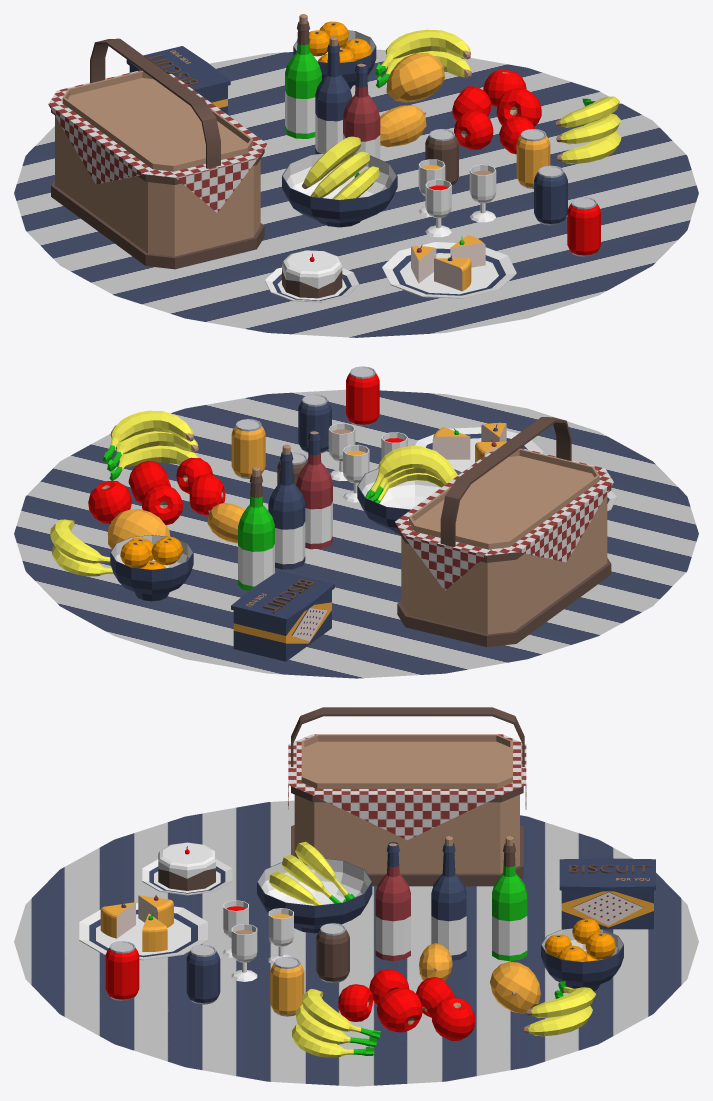
File: picnic.fbx
3 views of the same model, one above another, from view 1: azimuth 30°, elevation 25°; view 2: azimuth 150°, elevation 25°; view 3: azimuth 270°, elevation 25° (orthographic).
Parts seen in each view (by area): view 1: SM_zhuobu, SM_basket, SM_wan01, SM_dangao, SM_panzi_01, SM_fruit_banana01.001, bottle3, SM_fruit_banana02, SM_fruit_banana01, bottle2, SM_biscuit_box, SM_fruit_mango.001 (+18 smaller); view 2: SM_zhuobu, SM_basket, SM_biscuit_box, SM_fruit_banana01.001, bottle3, bottle2, bottle1, SM_fruit_banana02, SM_wan02, SM_wan01, SM_fruit_banana01, SM_yilaguan.004 (+17 smaller); view 3: SM_zhuobu, SM_basket, SM_biscuit_box, SM_wan01, SM_dangao, SM_fruit_banana01.001, bottle3, bottle1, SM_panzi_01, bottle2, SM_fruit_banana02, SM_wan02 (+19 smaller).
Boxes of the visible parts, <box> form: SM_zhuobu: <box>14,49,698,337</box>; SM_basket: <box>48,38,266,269</box>; SM_wan01: <box>282,153,397,227</box>; SM_dangao: <box>265,250,359,302</box>; SM_panzi_01: <box>382,242,516,298</box>; SM_fruit_banana01.001: <box>555,96,621,163</box>; bottle3: <box>285,14,321,138</box>; SM_fruit_banana02: <box>302,136,379,199</box>; SM_fruit_banana01: <box>375,29,471,87</box>; bottle2: <box>315,36,352,153</box>; SM_biscuit_box: <box>126,46,230,114</box>; SM_fruit_mango.001: <box>386,52,444,102</box>; SM_zhuobu: <box>14,389,698,678</box>; SM_basket: <box>395,417,613,647</box>; SM_biscuit_box: <box>231,570,334,661</box>; SM_fruit_banana01.001: <box>102,410,198,480</box>; bottle3: <box>238,466,274,590</box>; bottle2: <box>268,444,305,569</box>; bottle1: <box>296,430,332,549</box>; SM_fruit_banana02: <box>365,446,457,503</box>; SM_wan02: <box>110,535,193,601</box>; SM_wan01: <box>357,468,461,534</box>; SM_fruit_banana01: <box>50,519,113,576</box>; SM_yilaguan.004: <box>346,366,379,426</box>; SM_zhuobu: <box>14,800,698,1086</box>; SM_basket: <box>288,707,526,886</box>; SM_biscuit_box: <box>559,858,655,929</box>; SM_wan01: <box>257,858,372,933</box>; SM_dangao: <box>142,842,232,895</box>; SM_fruit_banana01.001: <box>292,989,380,1057</box>; bottle3: <box>492,836,527,961</box>; bottle1: <box>375,842,410,961</box>; SM_panzi_01: <box>79,903,207,960</box>; bottle2: <box>431,836,466,960</box>; SM_fruit_banana02: <box>269,841,355,905</box>; SM_wan02: <box>541,928,623,991</box>.
Bounding box in the file's own units: 1066 × 250 × 1066.
